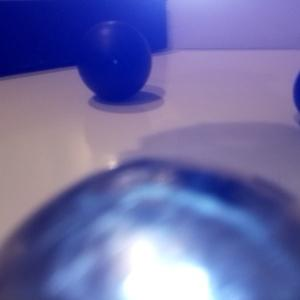alive_ball: (1, 159, 300, 300)
dead_ball: (76, 20, 153, 101)
